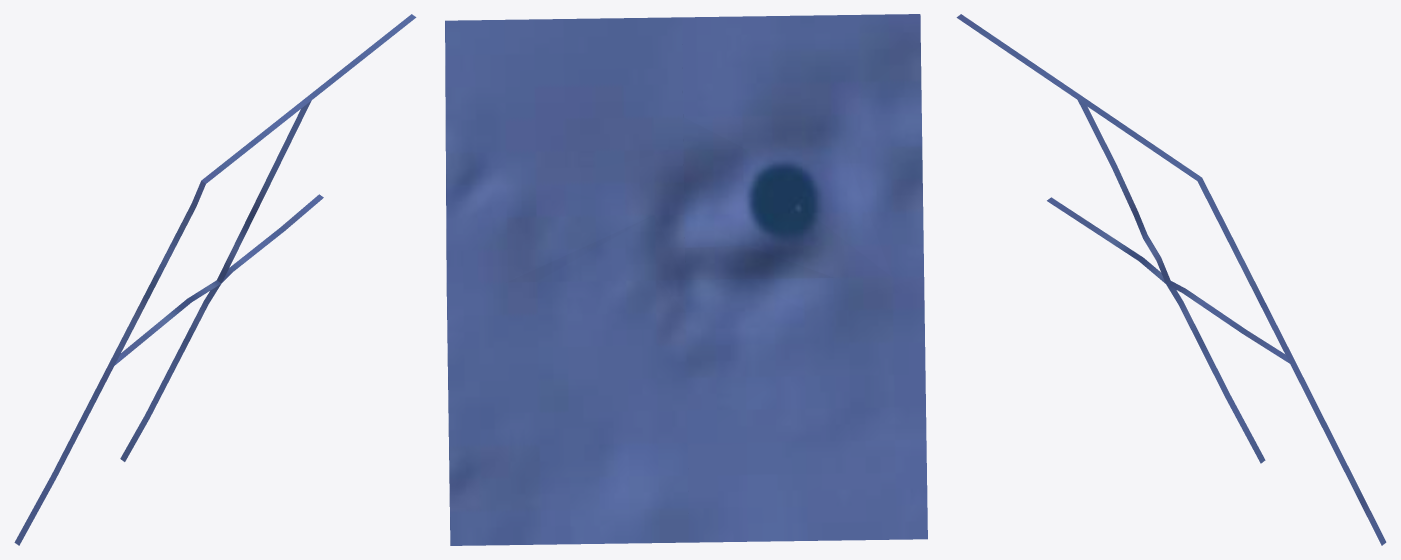
3 renders of one model, left to right at view 1: azimuth 30°, elevation 25°; view 2: azimuth 150°, elevation 25°; view 3: azimuth 270°, elevation 25°, orthographic. The views are drawn at different scales.
Size of the model in its own units: 19624 by 17812 by 16743.
1 material, 1 textured.
